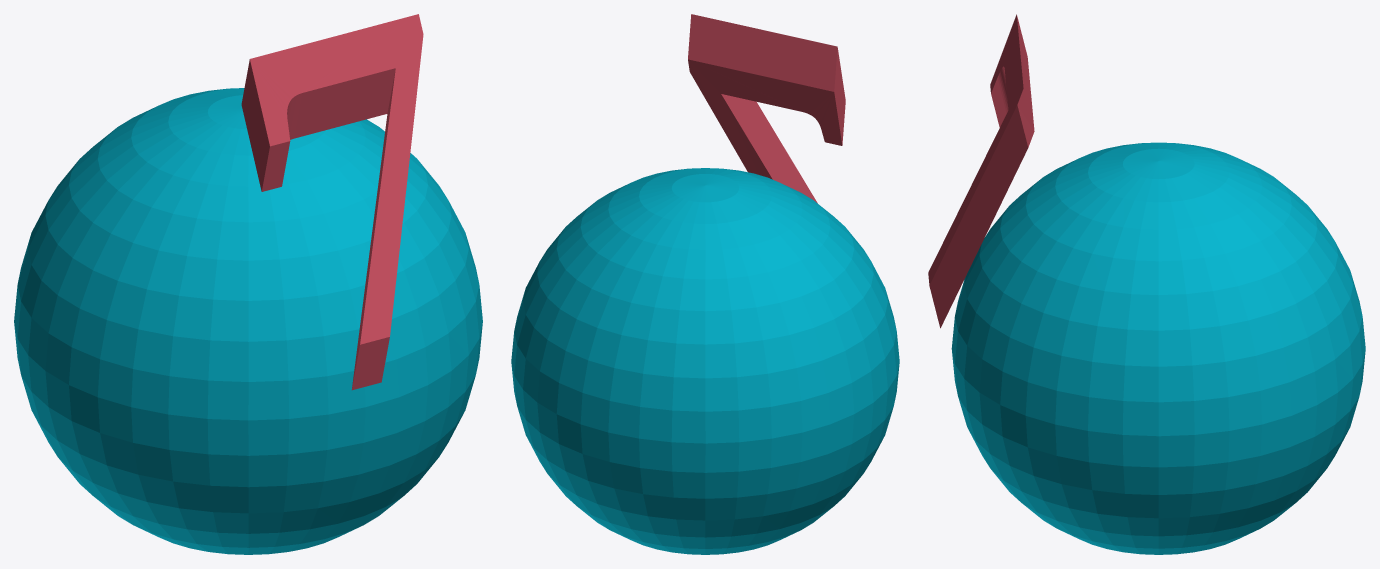
File: number_7.glb
3 renders of one model, left to right at view 1: azimuth 30°, elevation 25°; view 2: azimuth 150°, elevation 25°; view 3: azimuth 270°, elevation 25°, orthographic. The views are drawn at different scales.
Visible parts, largest first — view 1: Mesh_Mesh_head_geo.001_lambert2SG.001; view 2: Mesh_Mesh_head_geo.001_lambert2SG.001; view 3: Mesh_Mesh_head_geo.001_lambert2SG.001.
Boxes of the visible parts, x1,y1,x2,y2 form: Mesh_Mesh_head_geo.001_lambert2SG.001: (14, 14, 482, 554); Mesh_Mesh_head_geo.001_lambert2SG.001: (511, 14, 899, 554); Mesh_Mesh_head_geo.001_lambert2SG.001: (928, 14, 1365, 554).
Bounding box in the file's own units: 20 × 26.03 × 21.14.
